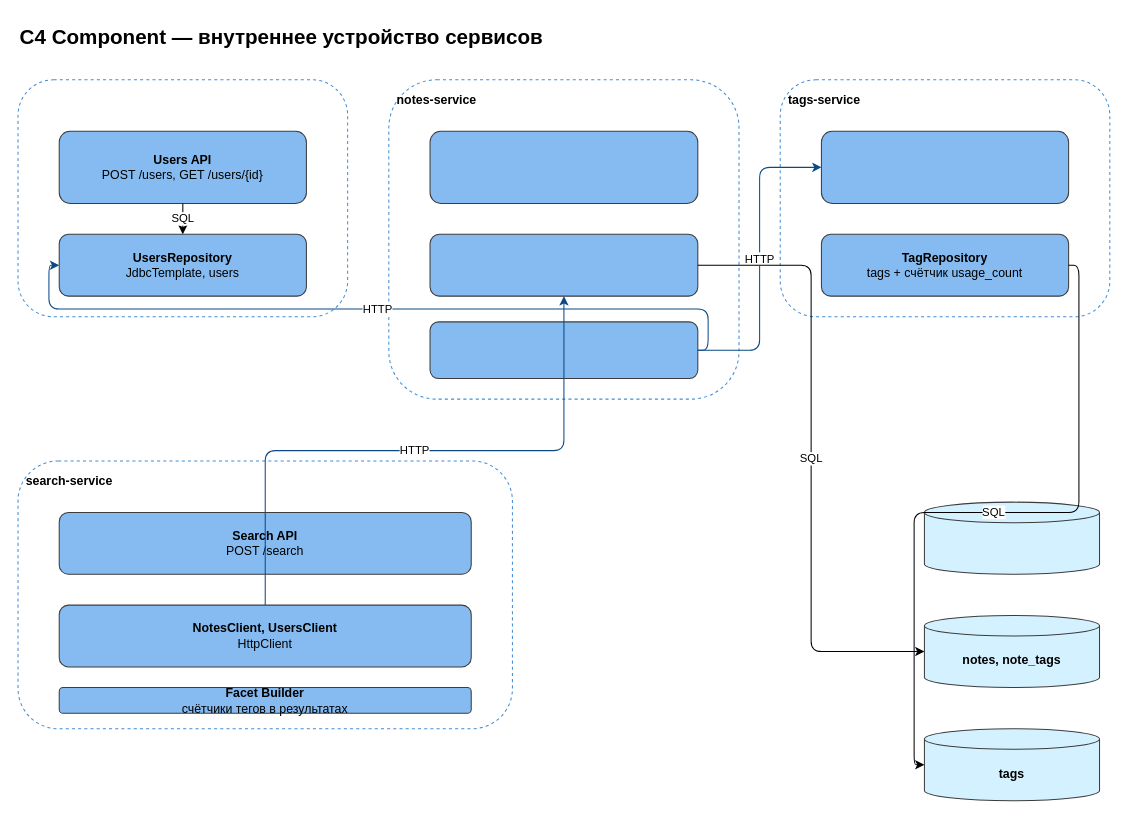
Some shapes in this 1128 by 819 pixel diagram are drawn without their labels. Each missing label, with the box of its shape:
Notes API CRUD, /notes/search: (429, 130, 698, 203)
NotesRepository notes, note_tags: (429, 233, 698, 296)
Tags API POST /resolve, GET /tags: (820, 130, 1069, 203)
users: (923, 501, 1100, 574)
users-service: (17, 79, 348, 317)
UsersClient, TagsClient HttpClient: (429, 321, 698, 379)
